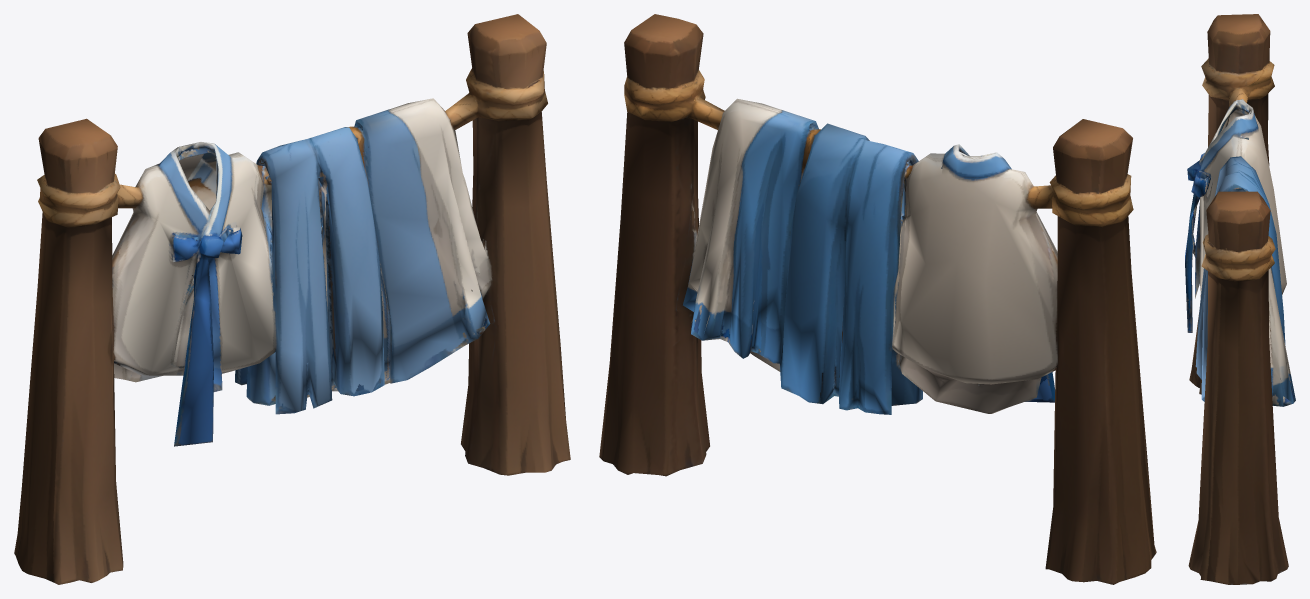
File: clothesline.glb
3 views of the same model, side by side, from view 1: azimuth 30°, elevation 25°; view 2: azimuth 150°, elevation 25°; view 3: azimuth 270°, elevation 25° (orthographic). The views are drawn at different scales.
Parts seen in each view (by area): view 1: low; view 2: low; view 3: low.
Boxes of the visible parts, x1,y1,x2,y2 form: low: (14, 14, 570, 584); low: (599, 14, 1156, 584); low: (1185, 14, 1295, 584).
Bounding box in the file's own units: 0.9964 × 0.7574 × 0.2096.
1 material, 1 textured.
